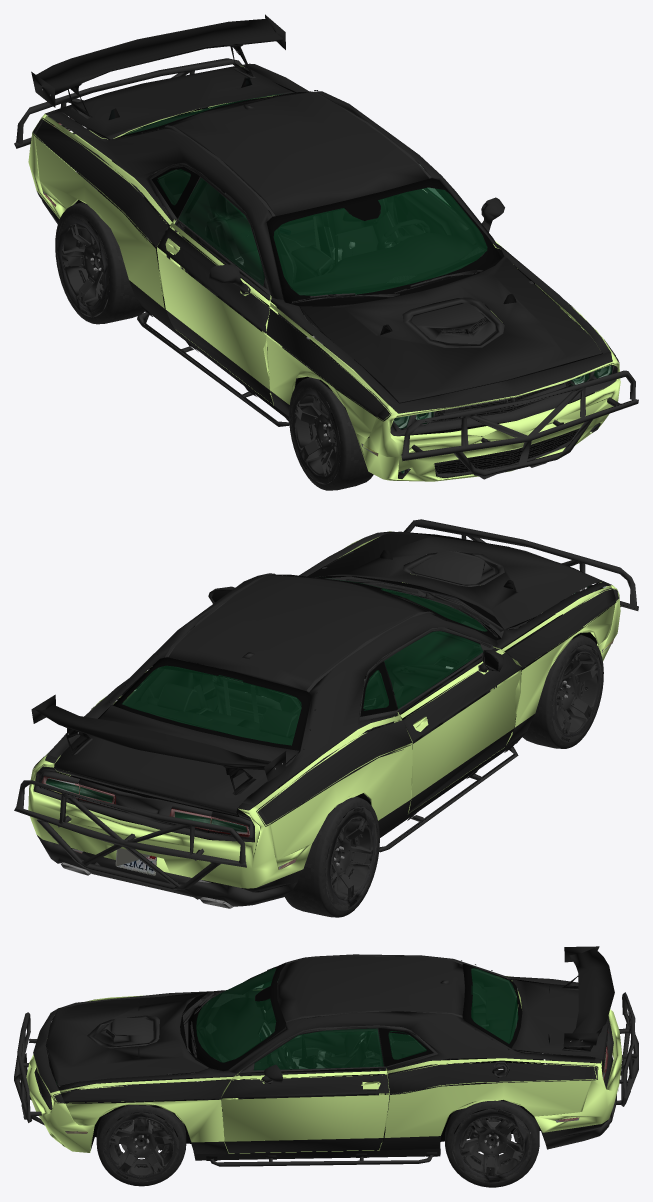
The model's file is dodge_challenger_rt_opt.glb.
The picture shows the model from 3 angles, top to bottom: view 1: azimuth 30°, elevation 25°; view 2: azimuth 150°, elevation 25°; view 3: azimuth 270°, elevation 25°; orthographic projection. The views are drawn at different scales.
Parts seen in each view (by area): view 1: d:Paint_Geo_lodA_Paint_Geo_lodA_Dodge_ChallengerRTShakerF7_2 (×2), d:Coloured_Geo_lodA_Coloured_Geo_lodA_Dodge_ChallengerRTShak, d:Window_Geo_lodA_Window_Geo_lodA_Dodge_ChallengerRTShakerF7, d:Interior_Geo_lodA_Interior_Geo_lodA_Dodge_ChallengerRTShak, d:Base_Geo_lodA_Base_Geo_lodA_Dodge_ChallengerRTShakerF7_201, d:Grille1_Geo_lodA_Grille1_Geo_lodA_Dodge_ChallengerRTShaker, polySurface928_d:Dodge_ChallengerRTShakerF7_2015_Wheel1A_3D_, polySurface562_d:Dodge_ChallengerRTShakerF7_2015_Wheel1A_3D_, polySurface1050_d:Dodge_ChallengerRTShakerF7_2015_Wheel1A_3D, polySurface388_d:Dodge_ChallengerRTShakerF7_2015_Wheel1A_3D_, polySurface936_d:Dodge_ChallengerRTShakerF7_2015_Wheel1A_3D_, polySurface571_d:Dodge_ChallengerRTShakerF7_2015_Wheel1A_3D_ (+2 smaller); view 2: d:Paint_Geo_lodA_Paint_Geo_lodA_Dodge_ChallengerRTShakerF7_2 (×2), d:Coloured_Geo_lodA_Coloured_Geo_lodA_Dodge_ChallengerRTShak, d:Window_Geo_lodA_Window_Geo_lodA_Dodge_ChallengerRTShakerF7, d:Interior_Geo_lodA_Interior_Geo_lodA_Dodge_ChallengerRTShak, d:Base_Geo_lodA_Base_Geo_lodA_Dodge_ChallengerRTShakerF7_201, d:Light_Geo_lodA_Light_Geo_lodA_Dodge_ChallengerRTShakerF7_2, polySurface928_d:Dodge_ChallengerRTShakerF7_2015_Wheel1A_3D_, polySurface562_d:Dodge_ChallengerRTShakerF7_2015_Wheel1A_3D_, polySurface1050_d:Dodge_ChallengerRTShakerF7_2015_Wheel1A_3D, polySurface932_d:Dodge_ChallengerRTShakerF7_2015_Wheel1A_3D_, polySurface388_d:Dodge_ChallengerRTShakerF7_2015_Wheel1A_3D_, polySurface931_d:Dodge_ChallengerRTShakerF7_2015_Wheel1A_3D_ (+2 smaller); view 3: d:Paint_Geo_lodA_Paint_Geo_lodA_Dodge_ChallengerRTShakerF7_2 (×2), d:Coloured_Geo_lodA_Coloured_Geo_lodA_Dodge_ChallengerRTShak, d:Window_Geo_lodA_Window_Geo_lodA_Dodge_ChallengerRTShakerF7, d:Interior_Geo_lodA_Interior_Geo_lodA_Dodge_ChallengerRTShak, d:Base_Geo_lodA_Base_Geo_lodA_Dodge_ChallengerRTShakerF7_201, polySurface614_d:Dodge_ChallengerRTShakerF7_2015_Wheel1A_3D_, polySurface257_d:Dodge_ChallengerRTShakerF7_2015_Wheel1A_3D_, polySurface736_d:Dodge_ChallengerRTShakerF7_2015_Wheel1A_3D_, polySurface83_d:Dodge_ChallengerRTShakerF7_2015_Wheel1A_3D_3.
Boxes of the visible parts, box(x1,y1,x2,y2) form: d:Paint_Geo_lodA_Paint_Geo_lodA_Dodge_ChallengerRTShakerF7_2 (×2): box(28, 63, 620, 481); d:Coloured_Geo_lodA_Coloured_Geo_lodA_Dodge_ChallengerRTShak: box(14, 14, 638, 479); d:Window_Geo_lodA_Window_Geo_lodA_Dodge_ChallengerRTShakerF7: box(123, 93, 612, 473); d:Interior_Geo_lodA_Interior_Geo_lodA_Dodge_ChallengerRTShak: box(147, 119, 487, 381); d:Base_Geo_lodA_Base_Geo_lodA_Dodge_ChallengerRTShakerF7_201: box(56, 82, 612, 478); d:Grille1_Geo_lodA_Grille1_Geo_lodA_Dodge_ChallengerRTShaker: box(431, 319, 576, 473); polySurface928_d:Dodge_ChallengerRTShakerF7_2015_Wheel1A_3D_: box(57, 214, 109, 317); polySurface562_d:Dodge_ChallengerRTShakerF7_2015_Wheel1A_3D_: box(290, 386, 340, 483); polySurface1050_d:Dodge_ChallengerRTShakerF7_2015_Wheel1A_3D: box(62, 223, 106, 306); polySurface388_d:Dodge_ChallengerRTShakerF7_2015_Wheel1A_3D_: box(294, 393, 340, 476); polySurface936_d:Dodge_ChallengerRTShakerF7_2015_Wheel1A_3D_: box(103, 288, 143, 317); polySurface571_d:Dodge_ChallengerRTShakerF7_2015_Wheel1A_3D_: box(335, 453, 373, 482); d:Paint_Geo_lodA_Paint_Geo_lodA_Dodge_ChallengerRTShakerF7_2 (×2): box(28, 531, 620, 892); d:Coloured_Geo_lodA_Coloured_Geo_lodA_Dodge_ChallengerRTShak: box(14, 519, 638, 908); d:Window_Geo_lodA_Window_Geo_lodA_Dodge_ChallengerRTShakerF7: box(45, 578, 605, 832); d:Interior_Geo_lodA_Interior_Geo_lodA_Dodge_ChallengerRTShak: box(123, 590, 487, 801); d:Base_Geo_lodA_Base_Geo_lodA_Dodge_ChallengerRTShakerF7_201: box(54, 532, 607, 892); d:Light_Geo_lodA_Light_Geo_lodA_Dodge_ChallengerRTShakerF7_2: box(42, 554, 613, 882); polySurface928_d:Dodge_ChallengerRTShakerF7_2015_Wheel1A_3D_: box(325, 807, 377, 910); polySurface562_d:Dodge_ChallengerRTShakerF7_2015_Wheel1A_3D_: box(552, 644, 601, 742); polySurface1050_d:Dodge_ChallengerRTShakerF7_2015_Wheel1A_3D: box(325, 816, 373, 900); polySurface932_d:Dodge_ChallengerRTShakerF7_2015_Wheel1A_3D_: box(284, 872, 329, 905); polySurface388_d:Dodge_ChallengerRTShakerF7_2015_Wheel1A_3D_: box(552, 651, 597, 734); polySurface931_d:Dodge_ChallengerRTShakerF7_2015_Wheel1A_3D_: box(300, 837, 330, 875); d:Paint_Geo_lodA_Paint_Geo_lodA_Dodge_ChallengerRTShakerF7_2 (×2): box(26, 954, 622, 1154); d:Coloured_Geo_lodA_Coloured_Geo_lodA_Dodge_ChallengerRTShak: box(14, 946, 638, 1166); d:Window_Geo_lodA_Window_Geo_lodA_Dodge_ChallengerRTShakerF7: box(56, 968, 606, 1083); d:Interior_Geo_lodA_Interior_Geo_lodA_Dodge_ChallengerRTShak: box(196, 968, 515, 1116); d:Base_Geo_lodA_Base_Geo_lodA_Dodge_ChallengerRTShakerF7_201: box(45, 968, 602, 1152); polySurface614_d:Dodge_ChallengerRTShakerF7_2015_Wheel1A_3D_: box(452, 1109, 532, 1183); polySurface257_d:Dodge_ChallengerRTShakerF7_2015_Wheel1A_3D_: box(103, 1112, 179, 1182); polySurface736_d:Dodge_ChallengerRTShakerF7_2015_Wheel1A_3D_: box(459, 1116, 524, 1176); polySurface83_d:Dodge_ChallengerRTShakerF7_2015_Wheel1A_3D_3: box(109, 1117, 174, 1177).
Bounding box in the file's own units: 0.0217 × 0.0149 × 0.0526.
20 materials, 11 textured.
